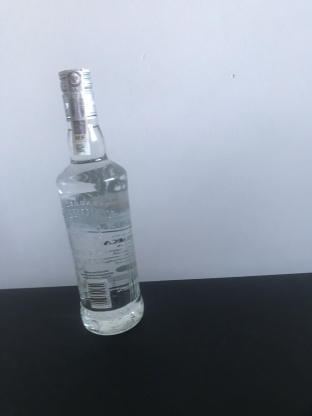nakretka: (56, 65, 99, 123)
